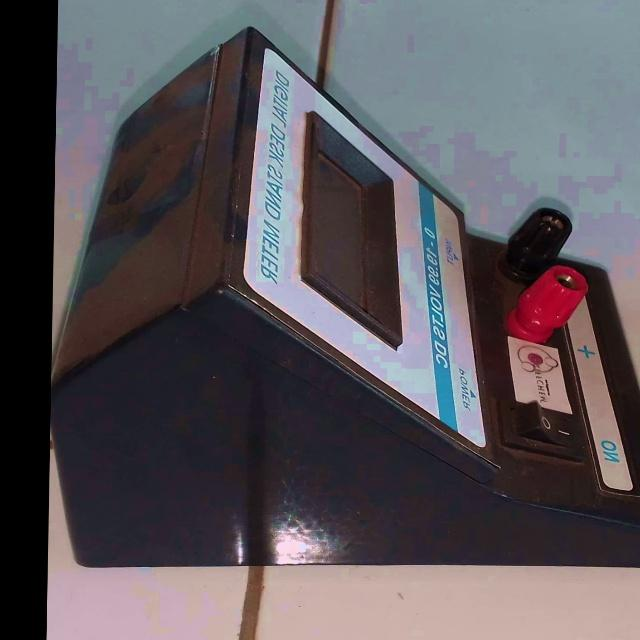Digital Voltmeter 0-20V: (63, 11, 640, 633)
